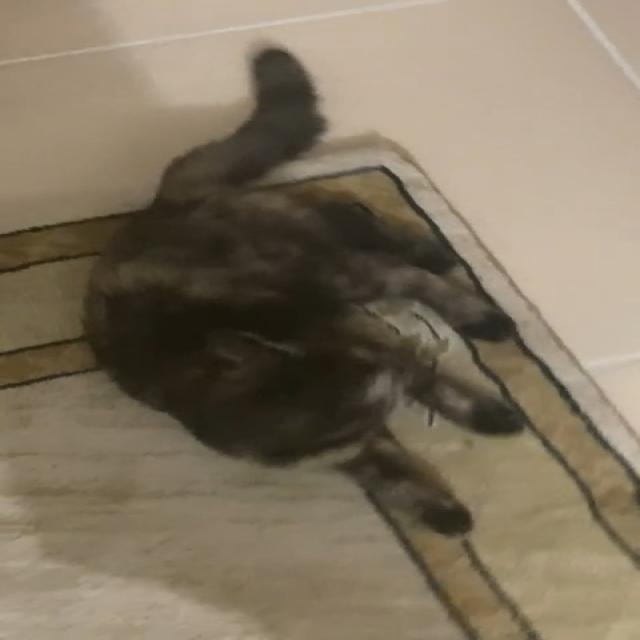authorized: (80, 43, 527, 540)
